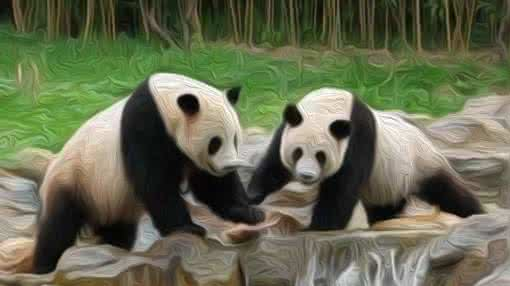panda: (26, 71, 266, 274), (243, 87, 491, 231)
